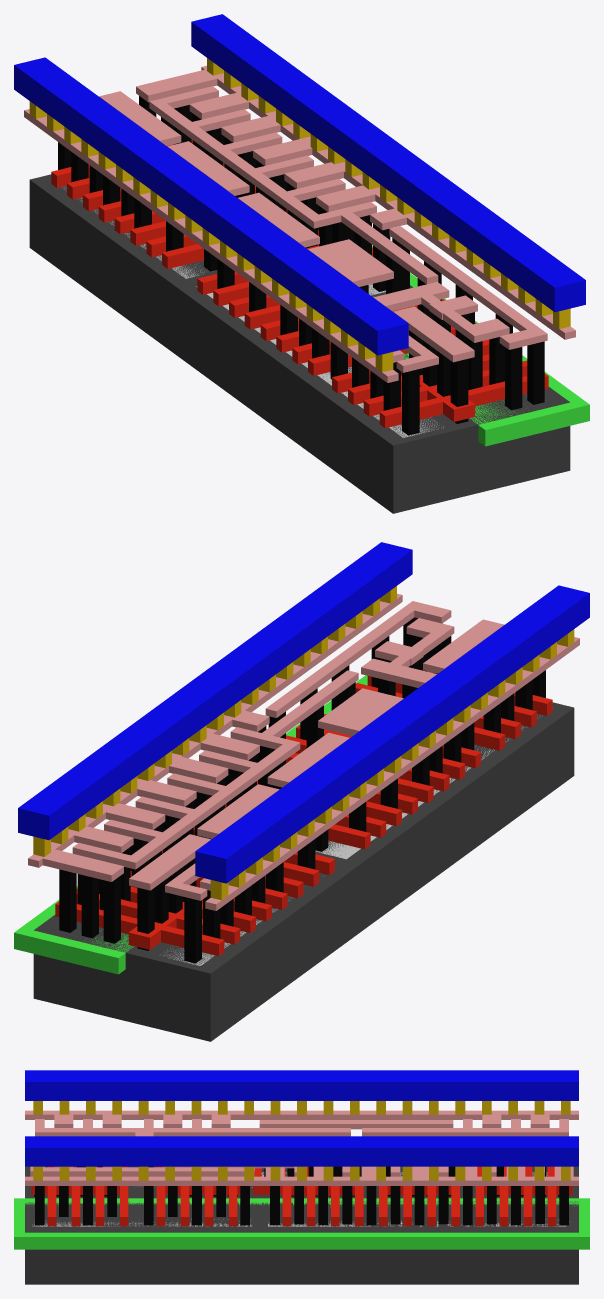
Rendered from sky130_fd_sc_hd__a311oi_4.obj.
3 renders of one model, top to bottom at view 1: azimuth 30°, elevation 25°; view 2: azimuth 150°, elevation 25°; view 3: azimuth 270°, elevation 25°, orthographic. The views are drawn at different scales.
Visible parts, largest first — view 1: subs, metal1, li, licon, poly, mcon, nwell, diff; view 2: subs, metal1, li, licon, poly, mcon, nwell, diff; view 3: metal1, subs, li, nwell, poly, licon, mcon, tap.
Boxes of the visible parts, left/top/right/bottom form: subs: left=29, top=174, right=570, bottom=513; metal1: left=14, top=14, right=585, bottom=355; li: left=24, top=65, right=575, bottom=382; licon: left=58, top=96, right=544, bottom=435; poly: left=51, top=139, right=548, bottom=428; mcon: left=29, top=58, right=570, bottom=372; nwell: left=372, top=245, right=589, bottom=446; diff: left=64, top=186, right=443, bottom=437; subs: left=33, top=702, right=574, bottom=1041; metal1: left=18, top=542, right=589, bottom=883; li: left=28, top=593, right=579, bottom=910; licon: left=59, top=617, right=545, bottom=963; poly: left=55, top=671, right=552, bottom=956; mcon: left=33, top=586, right=574, bottom=900; nwell: left=14, top=675, right=367, bottom=974; diff: left=164, top=715, right=542, bottom=965; metal1: left=25, top=1070, right=578, bottom=1166; subs: left=25, top=1166, right=578, bottom=1284; li: left=25, top=1110, right=578, bottom=1185; nwell: left=14, top=1198, right=589, bottom=1249; poly: left=31, top=1166, right=572, bottom=1226; licon: left=34, top=1166, right=568, bottom=1225; mcon: left=33, top=1101, right=570, bottom=1180; tap: left=32, top=1219, right=566, bottom=1226.
Size of the model in its own units: 3.2 by 2.74 by 10.04.
